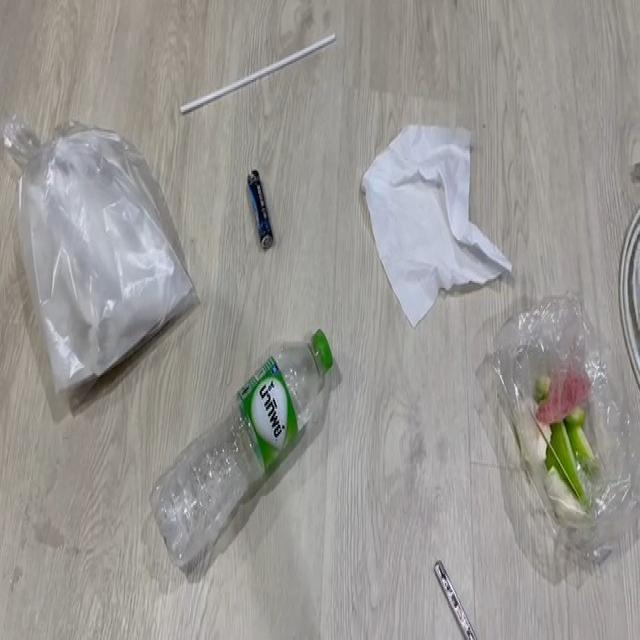Anorganik: (11, 112, 180, 368), (168, 348, 366, 548), (362, 100, 500, 324), (181, 38, 342, 104), (426, 546, 488, 640)
B3: (486, 316, 631, 555), (244, 157, 278, 262)
